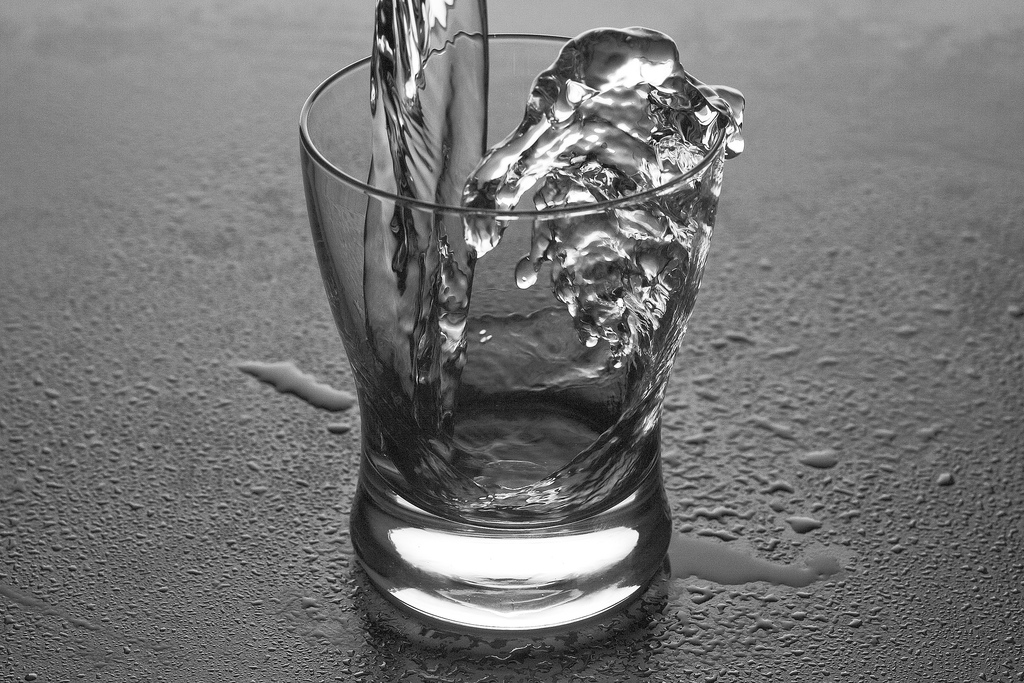glass of water: (283, 25, 755, 650)
